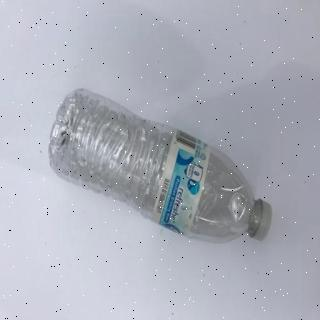Plastic-bottle: (47, 85, 275, 246)
